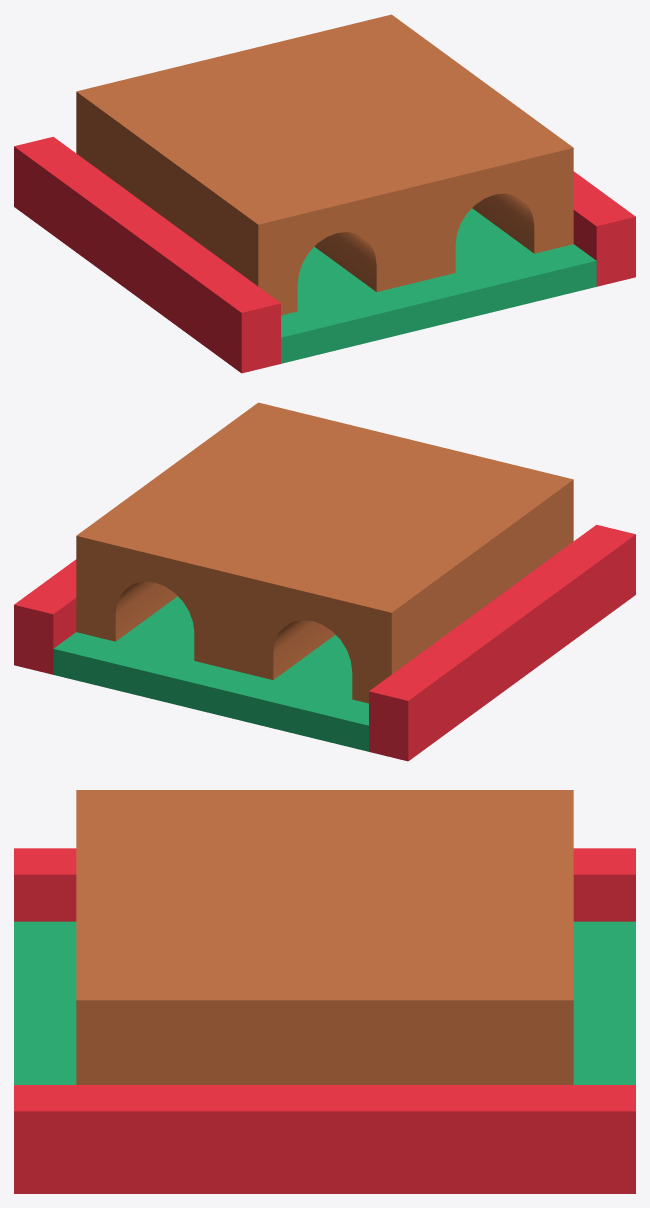
The model's file is tunnelDouble.fbx.
The picture shows the model from 3 angles, top to bottom: view 1: azimuth 30°, elevation 25°; view 2: azimuth 150°, elevation 25°; view 3: azimuth 270°, elevation 25°; orthographic projection. The views are drawn at different scales.
Visible parts, largest first — view 1: tunnelDouble; view 2: tunnelDouble; view 3: tunnelDouble.
Boxes of the visible parts, x1,y1,x2,y2 form: tunnelDouble: (14, 14, 635, 373); tunnelDouble: (14, 402, 635, 761); tunnelDouble: (14, 790, 635, 1193).
Bounding box in the file's own units: 10 × 2.97 × 10.
